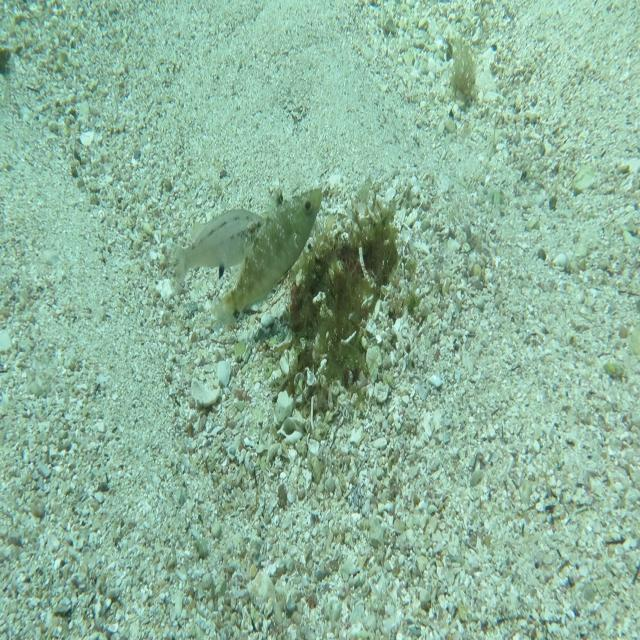FAN: (210, 185, 324, 335)
core_nest: (338, 226, 392, 274)
female: (164, 208, 266, 298)
nest: (282, 176, 420, 418)
